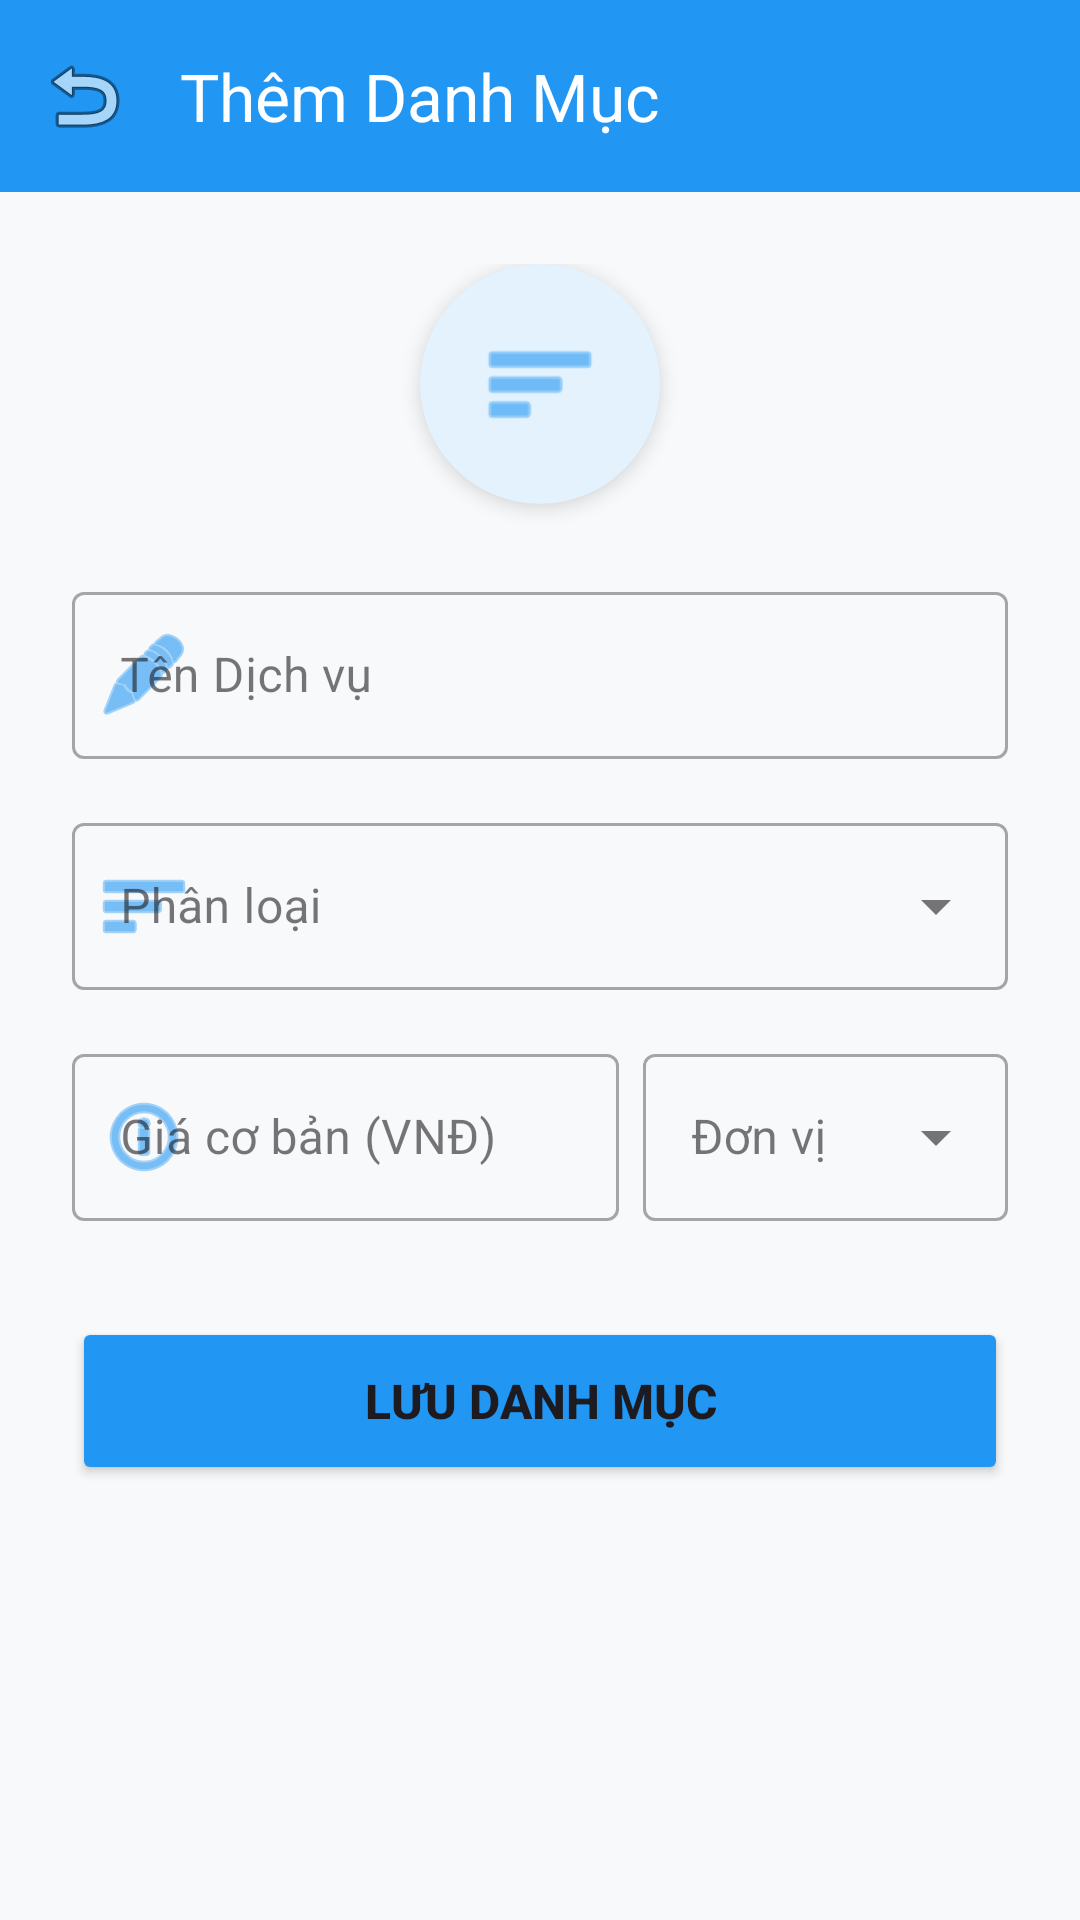

Named icons in this screenshot (1080 × 1920) and their centers, [x,y]:
sort by size: [540,384]
